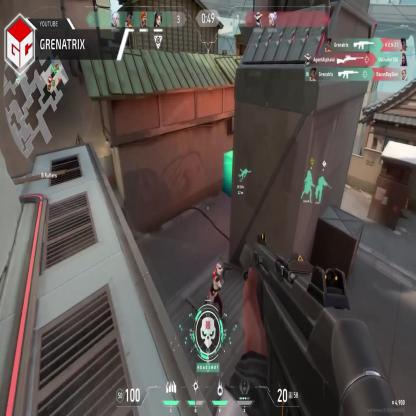enemy: (208, 261, 225, 324)
enemy_head: (216, 263, 223, 276)
